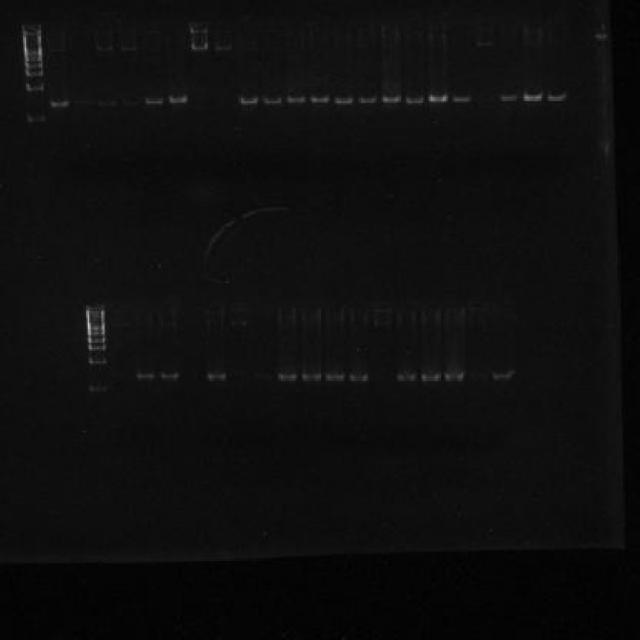B: (402, 92, 427, 106), (356, 92, 378, 106), (333, 92, 355, 106), (496, 90, 521, 102), (521, 89, 544, 102), (238, 92, 259, 106), (490, 369, 516, 380), (212, 39, 234, 52), (545, 90, 570, 101), (449, 92, 474, 103), (442, 370, 467, 381), (308, 93, 332, 104), (144, 94, 166, 106), (261, 94, 284, 105), (95, 96, 118, 107), (426, 92, 448, 103), (380, 93, 402, 104), (285, 93, 307, 104), (120, 96, 142, 107), (420, 371, 442, 382), (324, 371, 346, 382), (396, 371, 418, 382), (276, 371, 298, 382), (300, 371, 322, 382), (118, 40, 140, 51), (474, 39, 496, 50), (168, 93, 189, 104), (206, 371, 227, 382), (348, 372, 370, 382), (94, 40, 114, 51), (49, 99, 71, 108), (134, 371, 156, 380), (190, 40, 208, 51), (158, 371, 179, 380)
L: (80, 288, 518, 337), (14, 8, 580, 44)
M: (20, 44, 49, 130), (81, 324, 114, 396)
P: (88, 381, 108, 394), (26, 81, 46, 92), (27, 114, 46, 125), (24, 68, 44, 78), (88, 342, 106, 353), (88, 356, 107, 366), (24, 60, 44, 68), (88, 335, 106, 343), (23, 50, 45, 56), (86, 330, 105, 336), (24, 56, 44, 61), (86, 325, 105, 330)
Pc: (130, 294, 155, 330), (322, 296, 346, 332), (442, 294, 466, 330), (156, 292, 178, 330), (298, 296, 322, 330), (346, 293, 368, 330), (228, 295, 250, 331), (276, 298, 298, 334), (203, 298, 226, 332), (394, 298, 418, 330), (106, 296, 128, 330), (419, 296, 441, 330), (490, 294, 513, 326), (520, 14, 546, 42), (370, 296, 392, 329), (466, 293, 489, 321), (546, 13, 568, 39), (90, 16, 115, 38), (83, 301, 106, 324), (381, 15, 401, 40), (20, 23, 42, 45), (212, 16, 234, 38), (450, 12, 472, 34), (474, 17, 496, 37), (428, 12, 448, 34), (188, 18, 209, 38)
